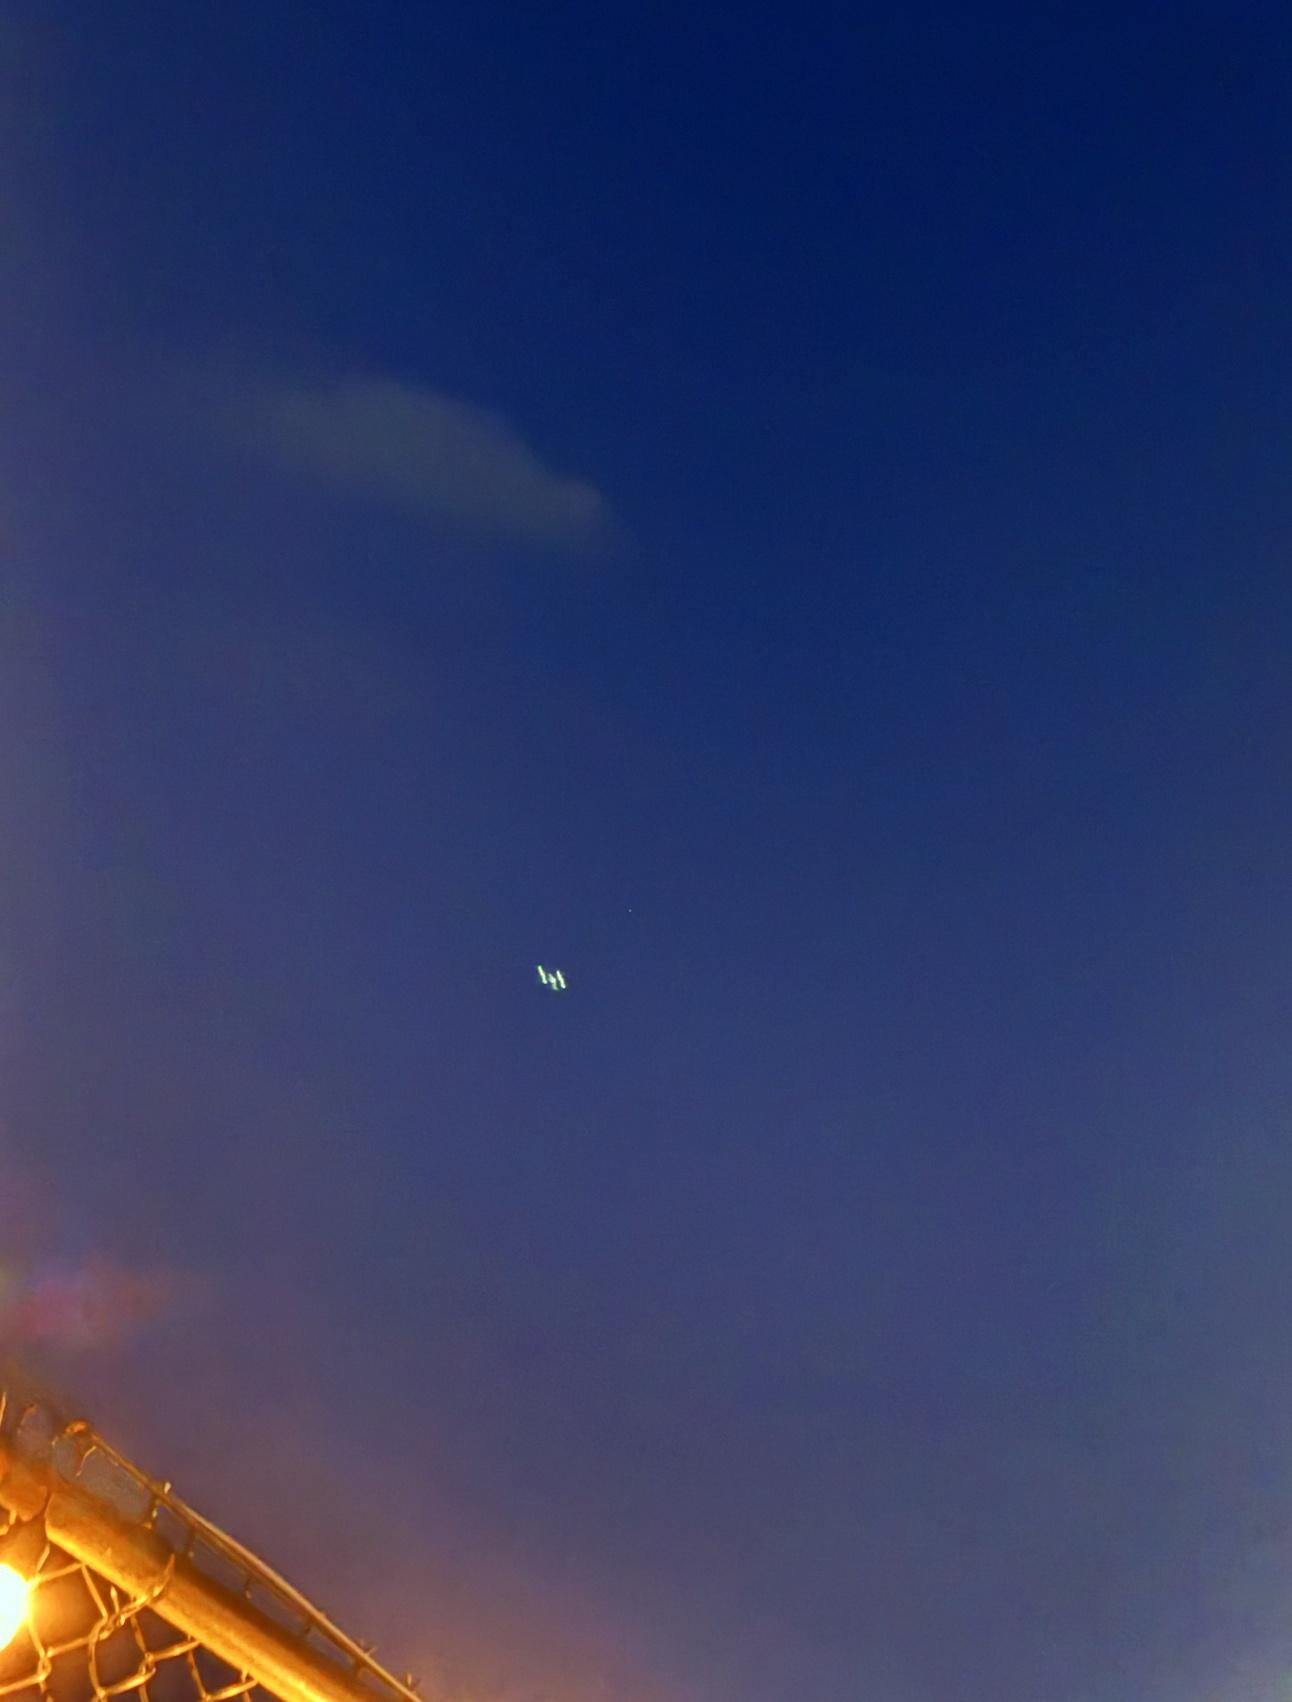Plane: (503, 945, 590, 1010)
